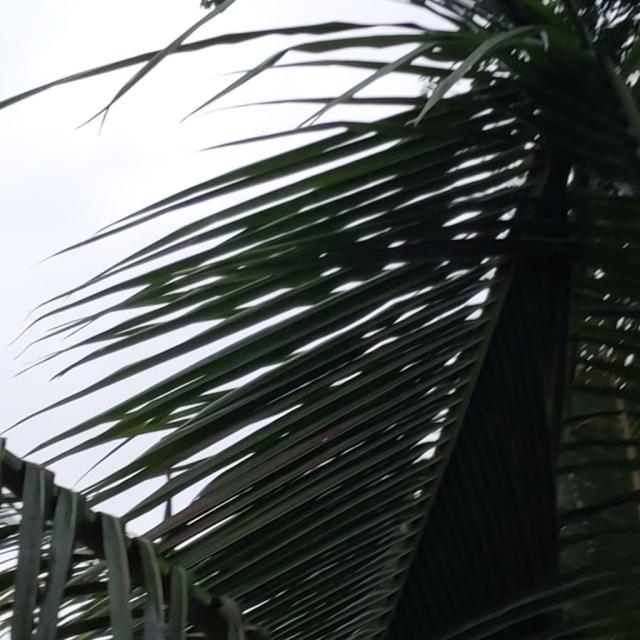leaf rot: (143, 11, 640, 201)
